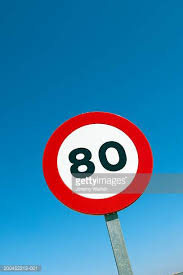Speed_limit_80km: (41, 112, 155, 214)
